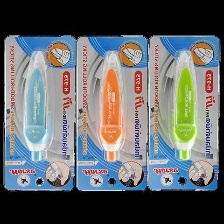book: (0, 31, 77, 193), (75, 32, 149, 192), (148, 33, 220, 193)
correction_fluid: (20, 49, 54, 161), (95, 48, 125, 163), (169, 47, 198, 161)
